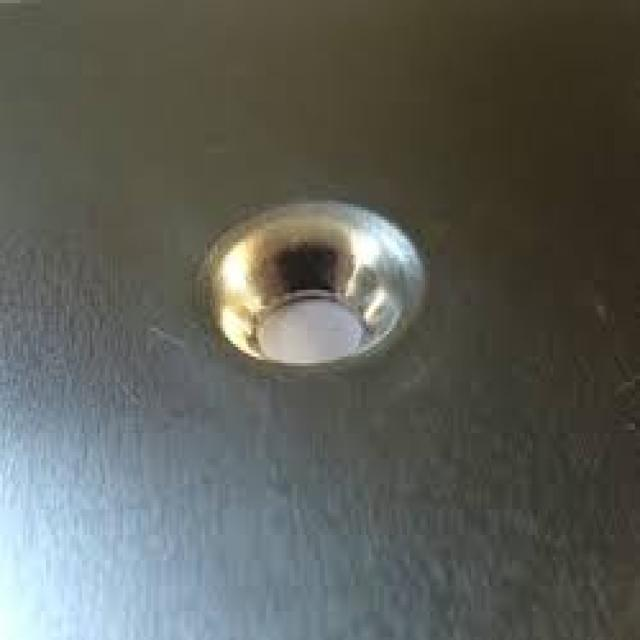holes: (197, 197, 428, 379)
